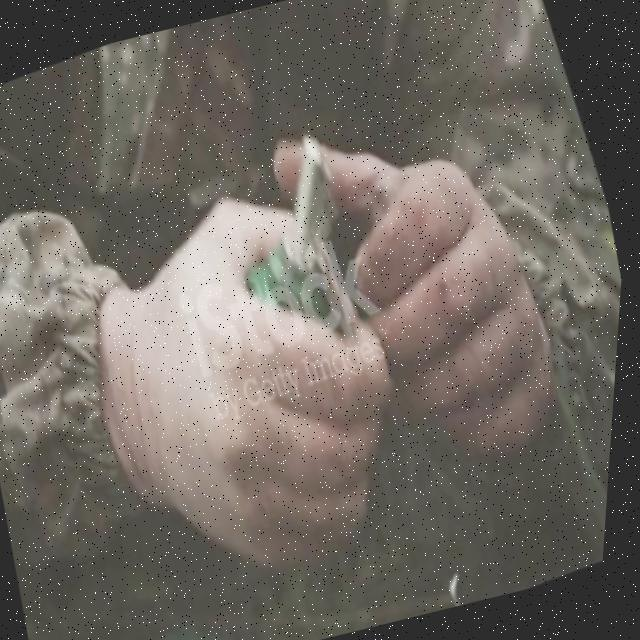grenade: (205, 122, 397, 369)
